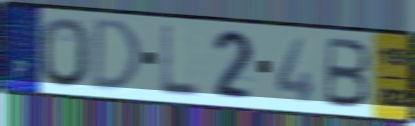2: (210, 28, 258, 104)
4: (273, 35, 317, 105)
B: (322, 35, 373, 111)
D: (90, 16, 144, 93)
L: (158, 23, 203, 99)
O: (38, 16, 92, 90)
